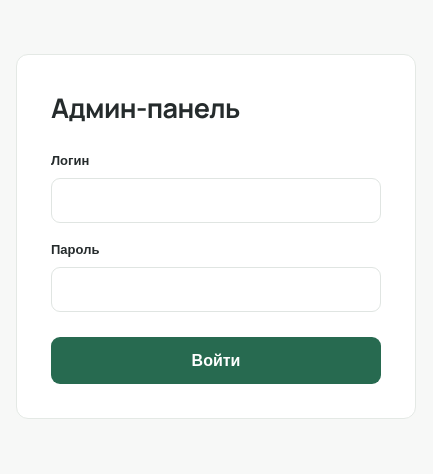
админка › неверный пароль: сообщение об ошибке, остаёмся на входе
In the field labelled "Логин": (216, 200) left=51, top=178, right=381, bottom=222, type "admin"
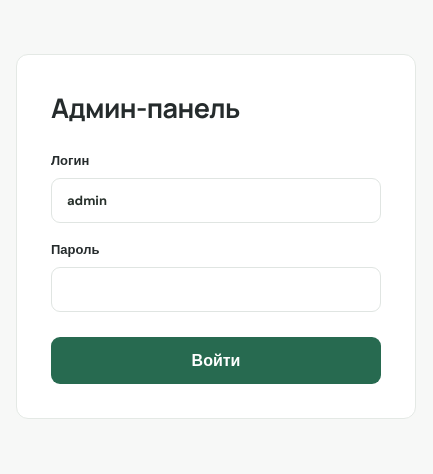
In the password field labelled "Пароль": (216, 289) left=51, top=266, right=381, bottom=312, type "wrong"
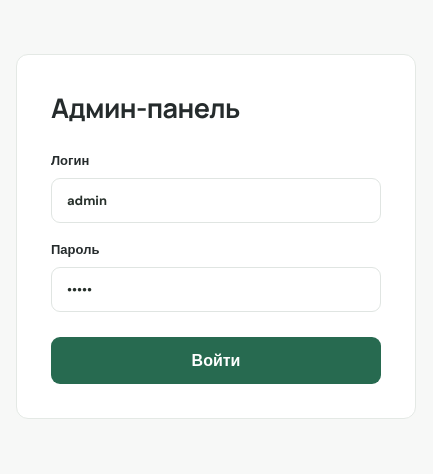
Click the button "Войти": (216, 360) left=51, top=336, right=381, bottom=384
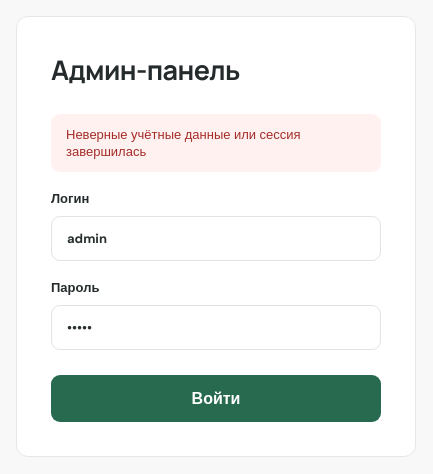
Result: the message shows "Неверные учётные данные" at left=66, top=126, right=300, bottom=160
